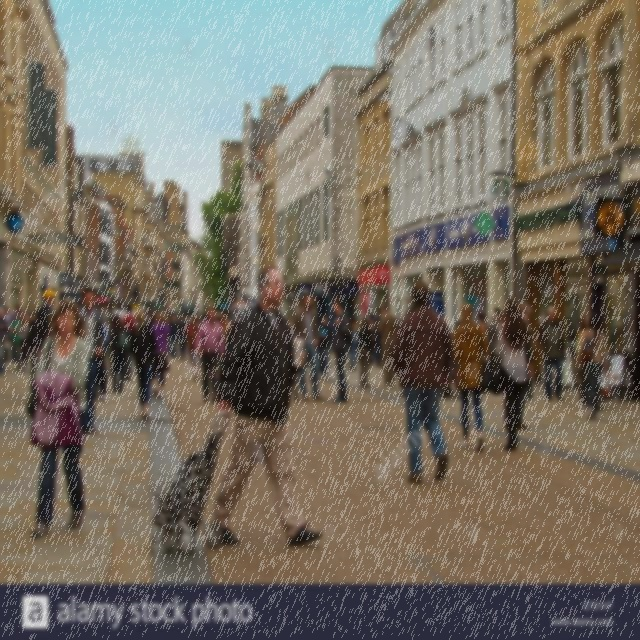pessoa: (210, 266, 322, 546), (29, 296, 90, 539), (391, 278, 455, 484), (489, 295, 532, 453), (452, 302, 489, 453), (78, 286, 108, 436), (288, 292, 328, 402), (576, 312, 610, 422), (576, 310, 612, 412), (129, 308, 159, 421), (194, 304, 226, 404), (538, 305, 566, 402), (330, 297, 352, 403), (109, 312, 132, 394), (151, 310, 171, 399), (377, 304, 398, 388), (36, 288, 60, 354), (27, 308, 42, 398), (95, 308, 109, 402), (357, 318, 374, 388), (316, 313, 334, 378), (122, 304, 136, 382), (450, 318, 463, 398), (346, 315, 364, 372), (186, 317, 202, 381), (10, 308, 24, 372), (218, 308, 232, 371), (486, 311, 501, 368), (16, 312, 30, 372), (7, 303, 21, 363), (371, 306, 384, 370), (0, 308, 10, 377), (176, 311, 189, 362), (2, 304, 12, 362), (367, 313, 376, 366), (168, 313, 178, 359), (186, 318, 194, 362), (518, 302, 533, 322), (145, 309, 158, 327), (493, 307, 504, 324), (476, 311, 487, 327), (198, 314, 208, 327), (187, 312, 196, 326), (27, 310, 36, 320), (288, 316, 294, 328), (397, 388, 405, 397)
